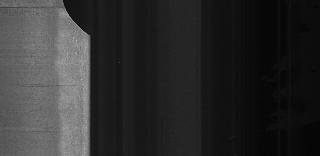welding line: (2, 2, 70, 10)
